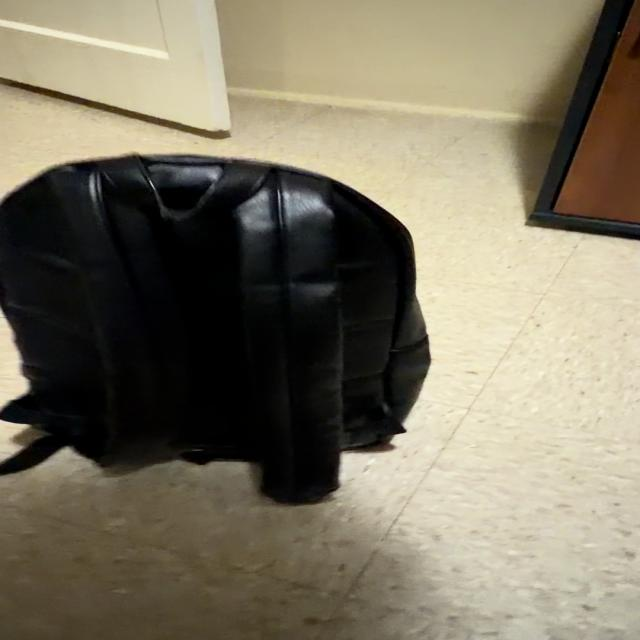backpack: (0, 156, 429, 502)
